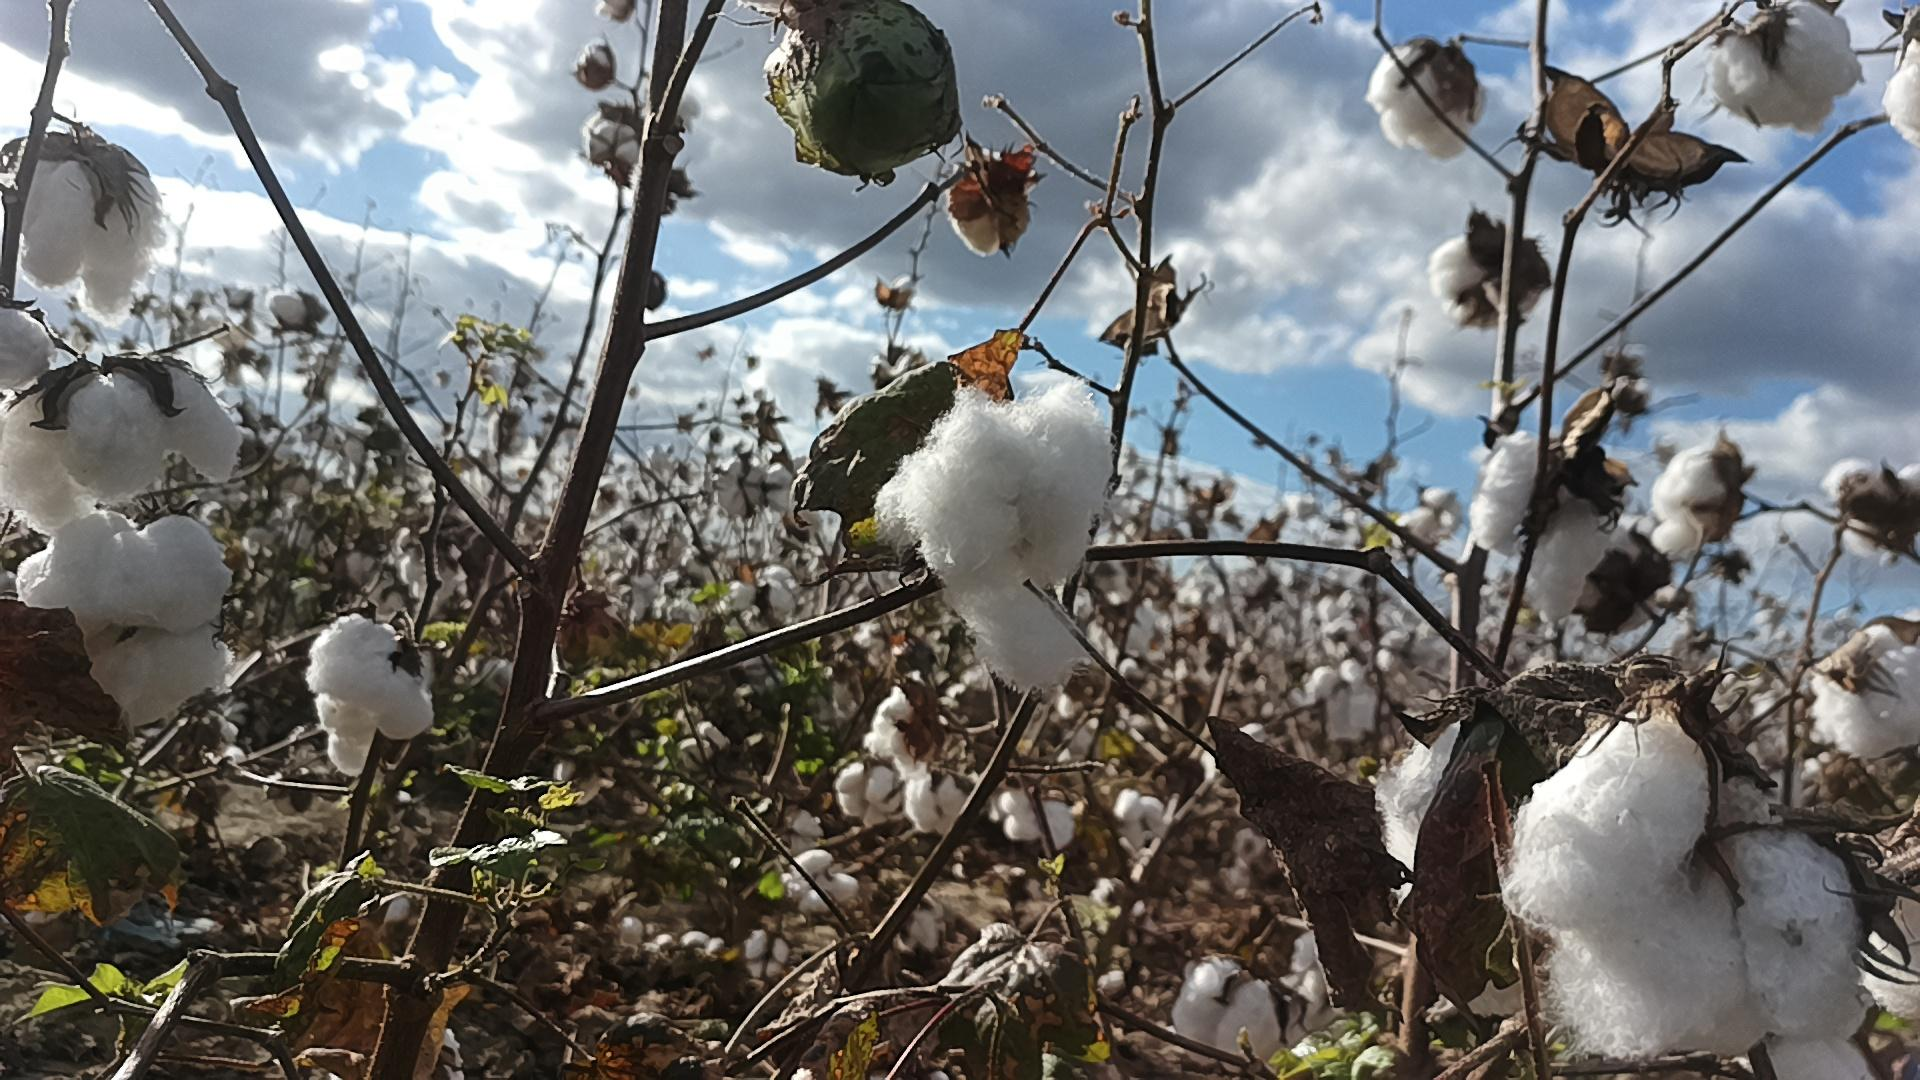cotton_ready: (1501, 717, 1870, 1063), (878, 376, 1110, 692), (16, 513, 231, 733), (0, 357, 240, 533), (0, 133, 166, 323), (1474, 429, 1618, 629), (307, 615, 440, 778), (1705, 0, 1870, 125), (1381, 723, 1510, 873), (1813, 613, 1920, 754), (866, 688, 968, 833), (1178, 963, 1302, 1076), (1395, 923, 1532, 1023), (1366, 44, 1487, 156), (1825, 455, 1920, 568), (1425, 231, 1531, 331), (1654, 440, 1730, 560), (1870, 845, 1920, 1025), (1738, 1035, 1878, 1080), (1880, 41, 1920, 145), (0, 315, 47, 396)
